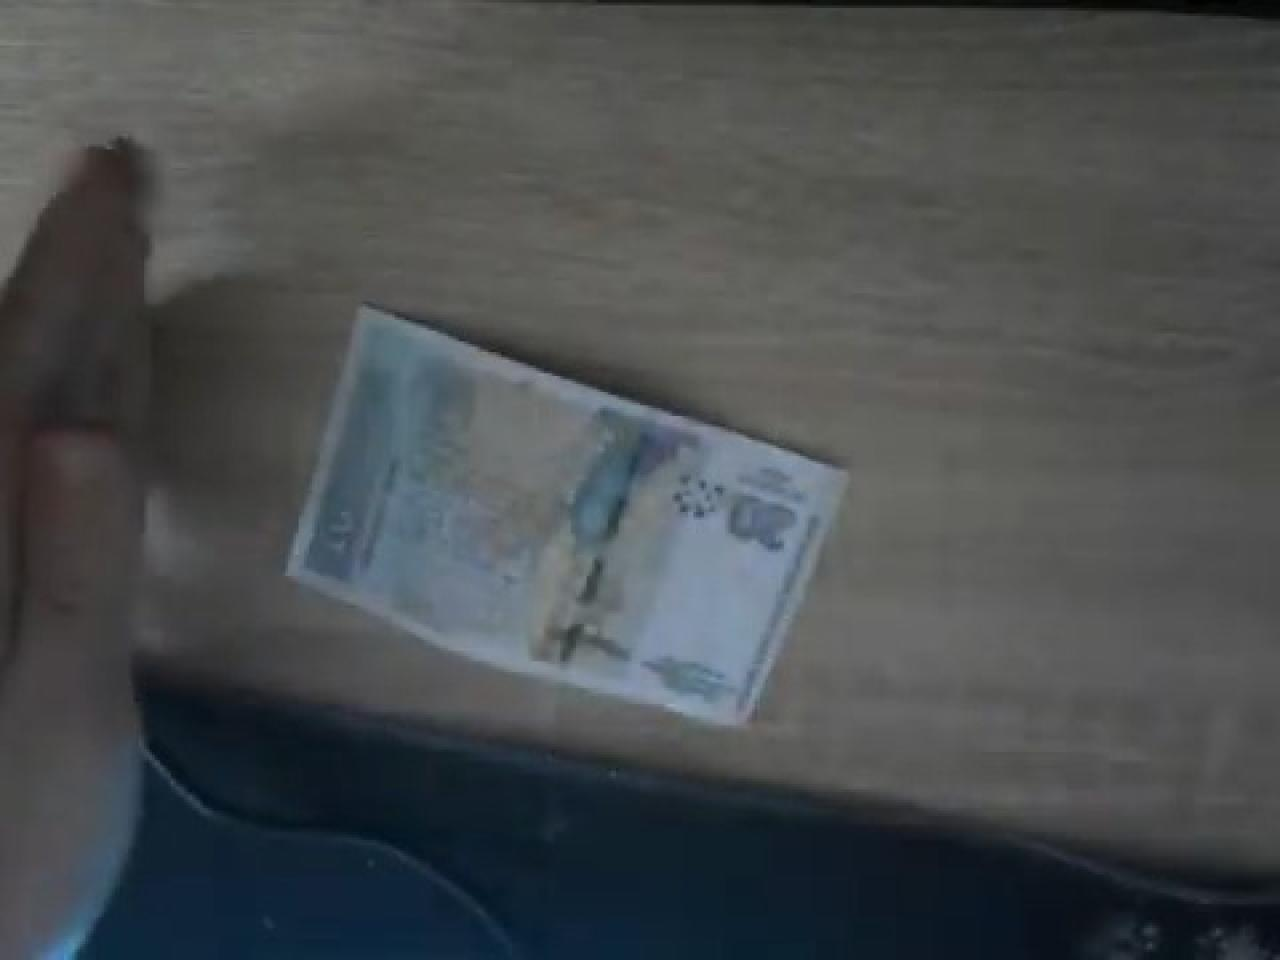20leva: (282, 302, 851, 733)
